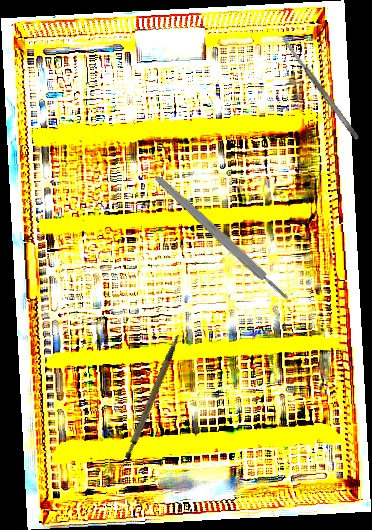Scalpel Handle: (152, 172, 292, 304), (108, 333, 200, 462)
Spatula Surgical: (279, 33, 361, 142)
